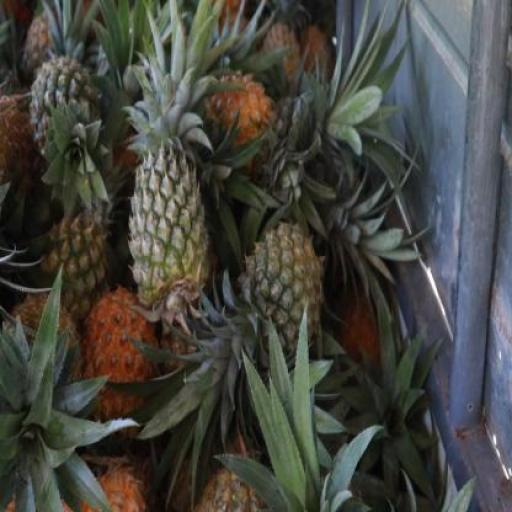Pineapple - v8 v1: (78, 281, 153, 430), (198, 70, 277, 153)
